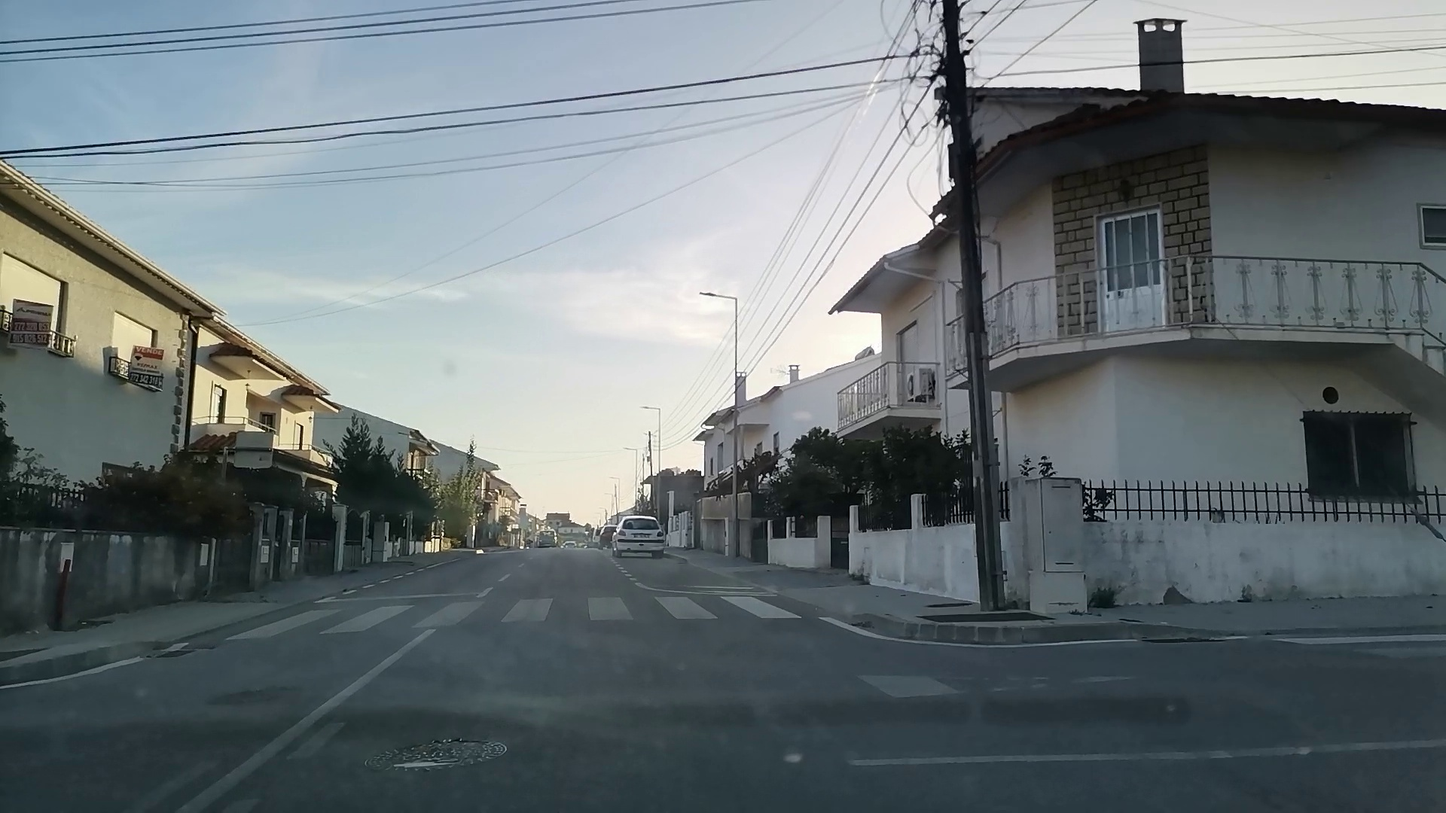Stairs: (288, 593, 814, 640)
